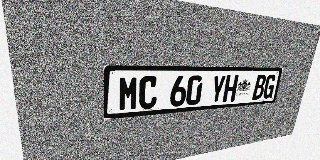0: (185, 75, 203, 106)
6: (169, 75, 188, 107)
B: (252, 75, 267, 100)
C: (138, 76, 158, 110)
G: (262, 75, 277, 99)
H: (222, 75, 239, 102)
M: (118, 76, 139, 111)
Y: (209, 75, 226, 103)
